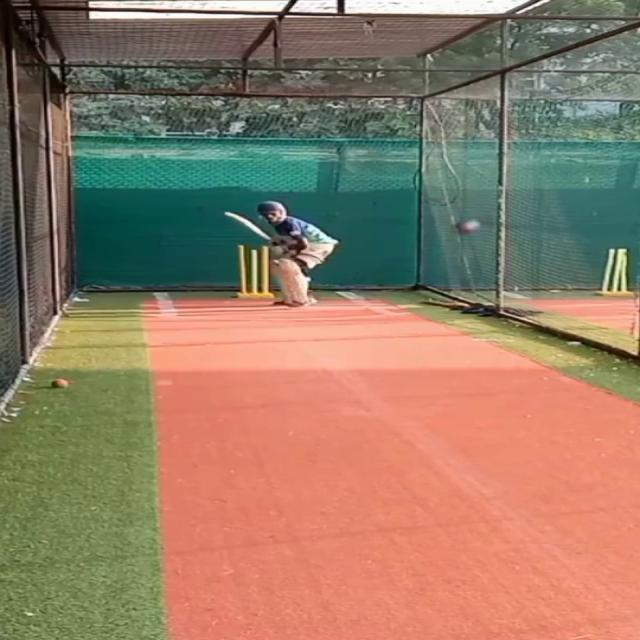ball: (452, 216, 484, 236), (46, 377, 69, 390)
stump: (231, 244, 274, 298)
